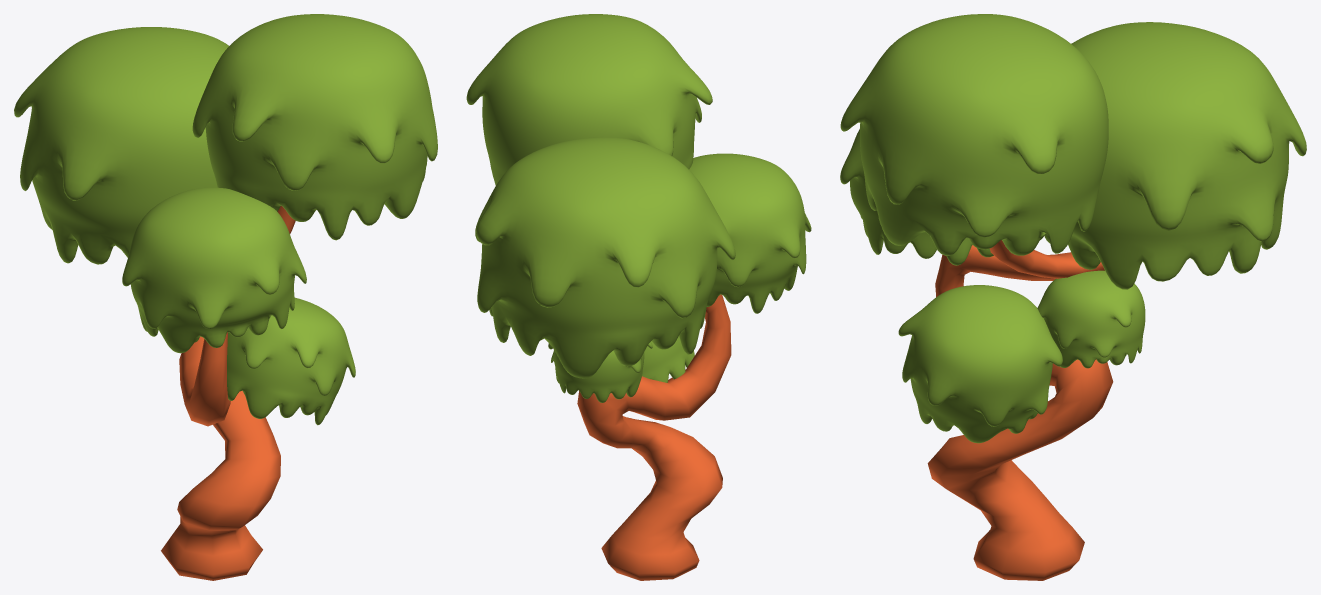
Rendered from Tree_1.fbx.
3 renders of one model, left to right at view 1: azimuth 30°, elevation 25°; view 2: azimuth 150°, elevation 25°; view 3: azimuth 270°, elevation 25°, orthographic. The views are drawn at different scales.
Visible parts, largest first — view 1: Cube.137; view 2: Cube.137; view 3: Cube.137.
Boxes of the visible parts, <box> form: Cube.137: <box>14,14,437,580</box>; Cube.137: <box>466,14,811,580</box>; Cube.137: <box>840,14,1306,580</box>.
Bounding box in the file's own units: 423 × 683 × 500.
